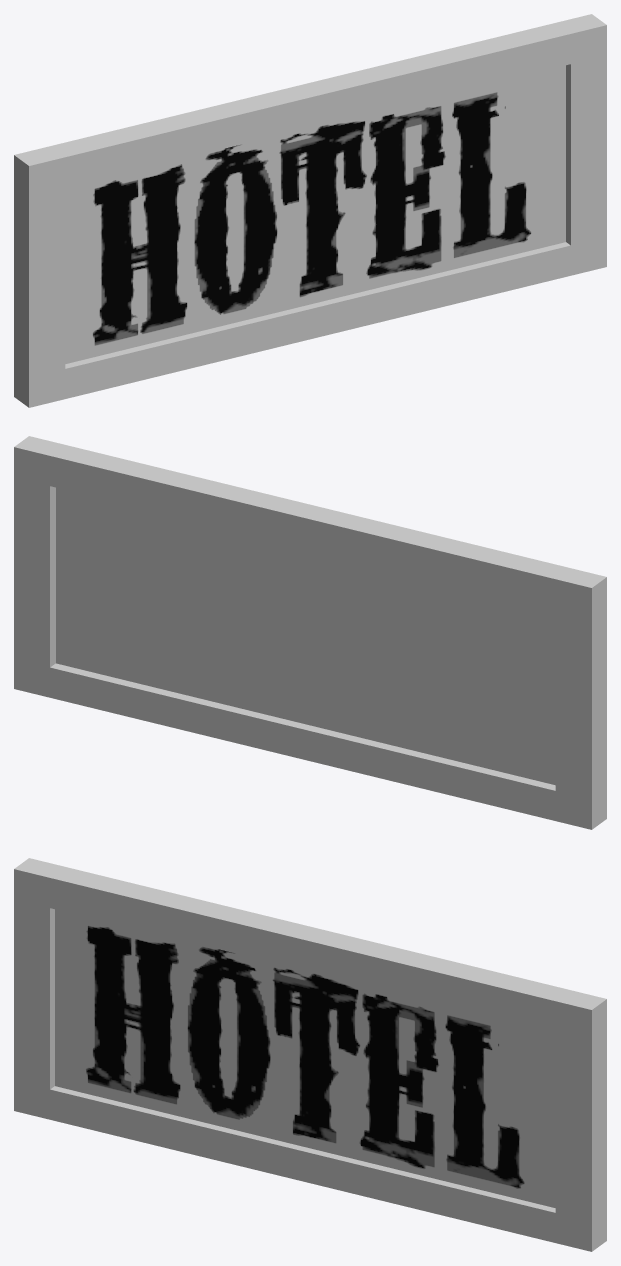
The model's file is SignBoard_7.fbx.
3 views of the same model, one above another, from view 1: azimuth 30°, elevation 25°; view 2: azimuth 150°, elevation 25°; view 3: azimuth 330°, elevation 25° (orthographic).
Parts seen in each view (by area): view 1: SignBoard_7; view 2: SignBoard_7; view 3: SignBoard_7.
Boxes of the visible parts, x1,y1,x2,y2 form: SignBoard_7: (14, 14, 606, 407); SignBoard_7: (14, 436, 606, 829); SignBoard_7: (14, 858, 606, 1251).
Bounding box in the file's own units: 2 × 0.8 × 0.0909.
